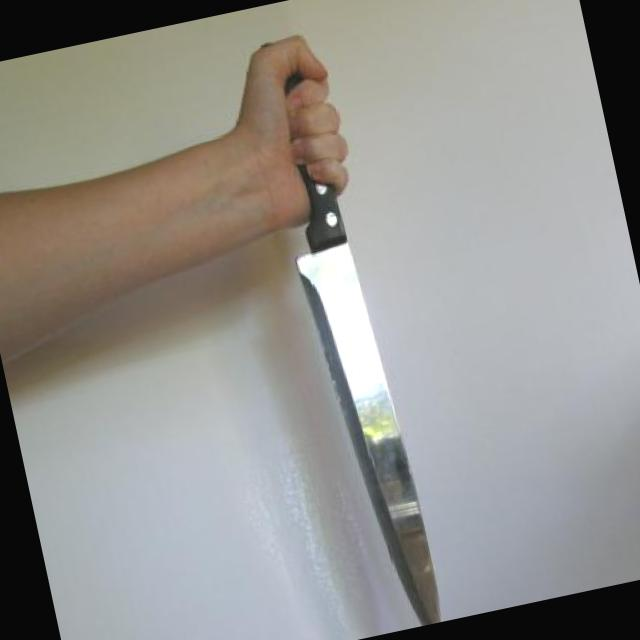knife: (257, 80, 454, 636)
